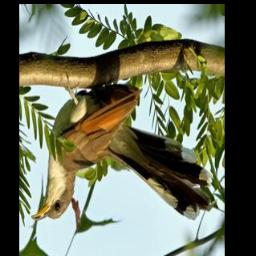Cuckoo: (31, 81, 213, 221)
